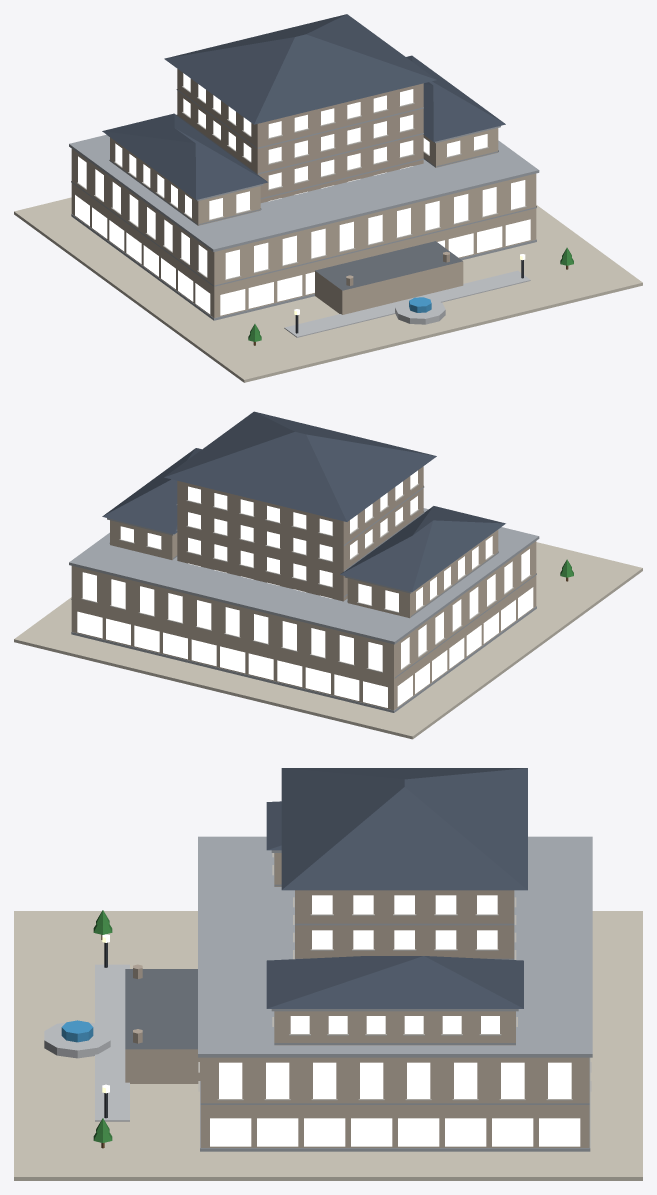
The model's file is landmark_hotel.glb.
3 views of the same model, one above another, from view 1: azimuth 30°, elevation 25°; view 2: azimuth 150°, elevation 25°; view 3: azimuth 270°, elevation 25° (orthographic). The views are drawn at different scales.
Parts seen in each view (by area): view 1: landmark_hotel; view 2: landmark_hotel; view 3: landmark_hotel.
Part boxes in pixels (<box>): landmark_hotel: <box>14,14,642,382</box>; landmark_hotel: <box>14,411,642,739</box>; landmark_hotel: <box>14,768,642,1180</box>.
Size of the model in its own units: 3.96 by 1.84 by 3.96.
